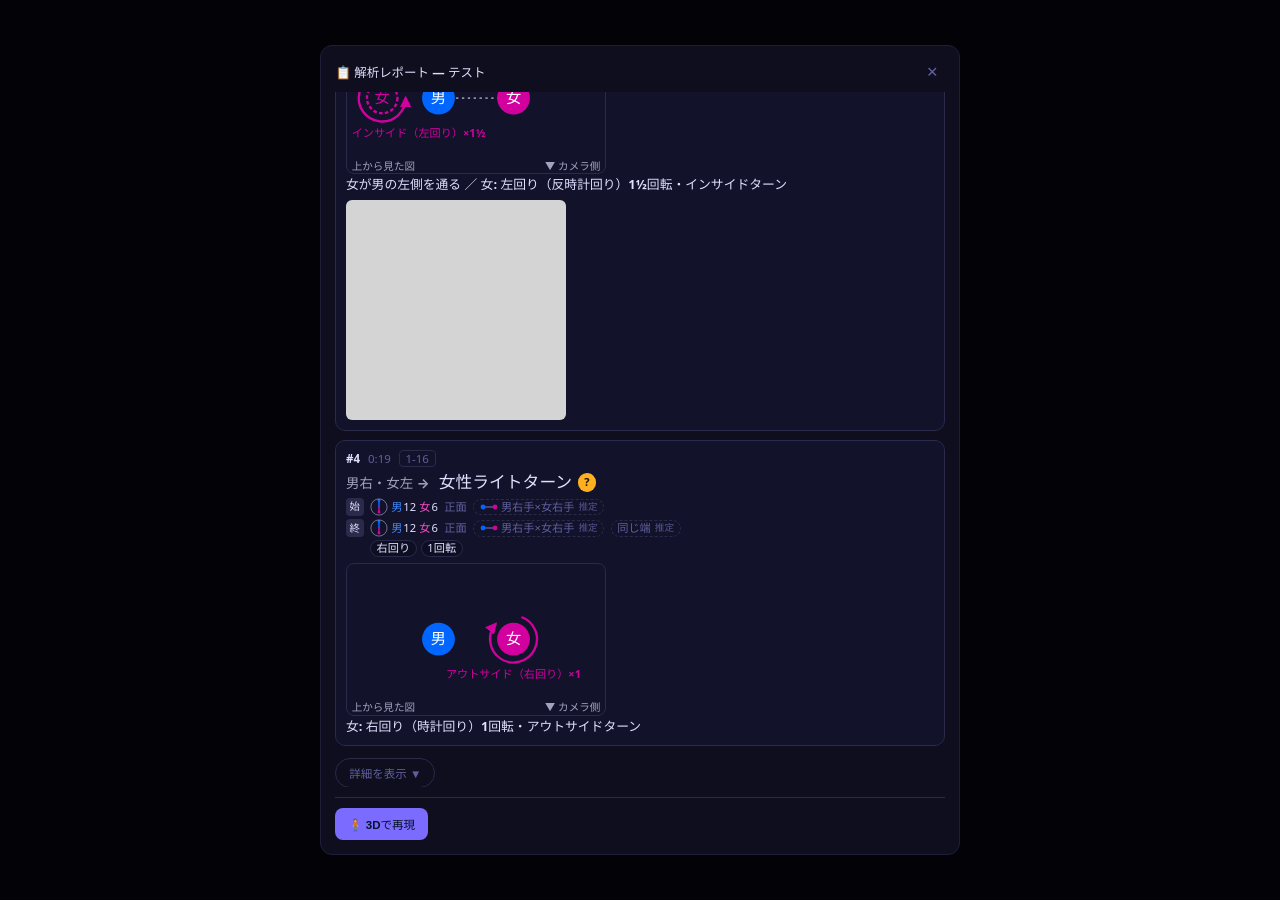
ReportModal の振付シート表示 › 1行 = 1技のカード（技名・カウントごとの動き・普通の言葉・写真）で出し、詳細は折りたたむ
The image size is (1280, 900).
(page scrolled)
expect the text "女が男の左側を通る ／ 女: 左回り（反時計回り）1½回転・インサイドターン" is shown: met, box [346, 175, 787, 193]
expect the text "詳しい根拠の文章" is not shown: met
Click the button "詳細を表示 ▼" at (385, 773), box [335, 758, 435, 788]
(page scrolled)
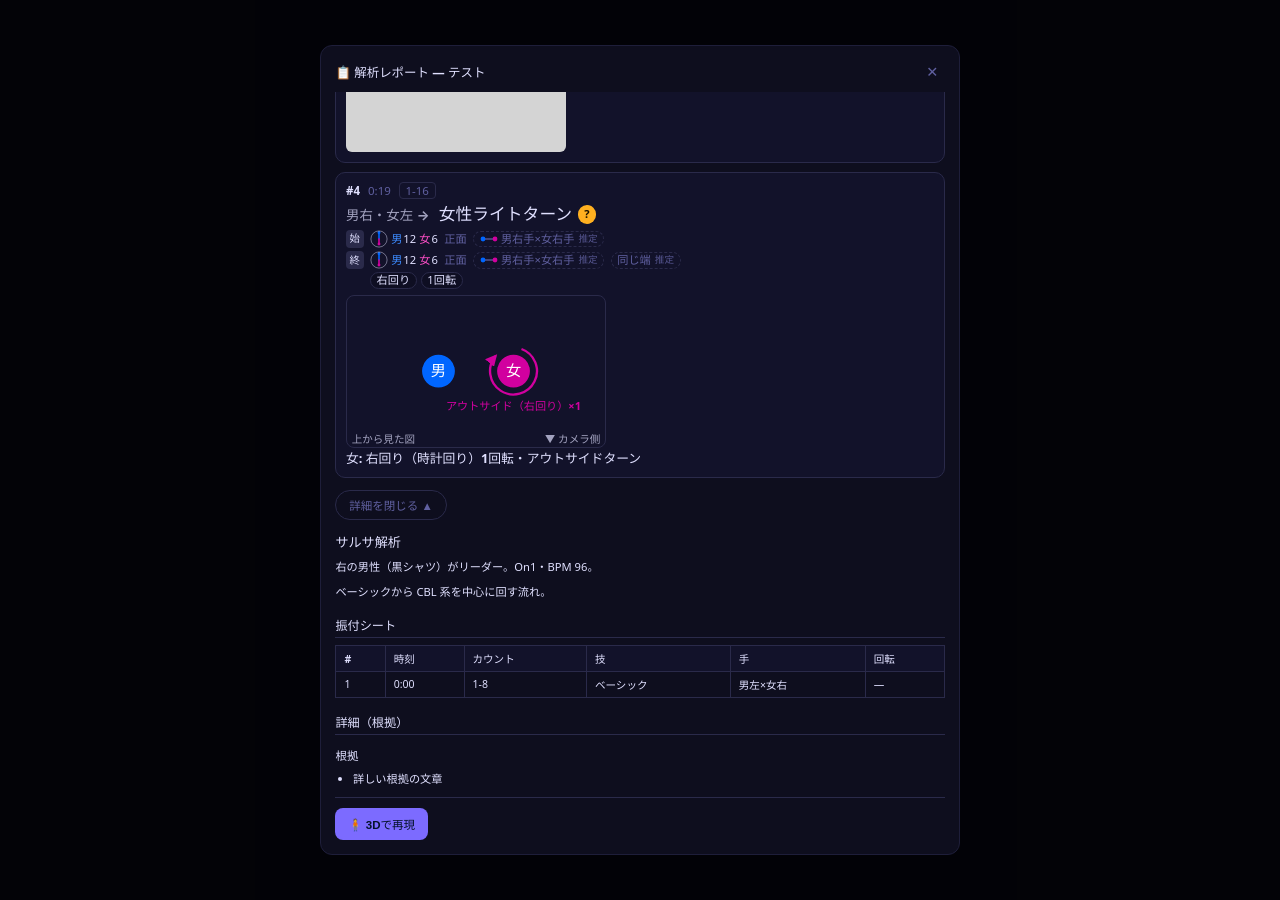
expect the list item "詳しい根拠の文章" is shown: met, box [353, 771, 442, 786]
